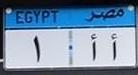1: (32, 34, 42, 63)
alif: (109, 33, 120, 61), (88, 33, 99, 61)
